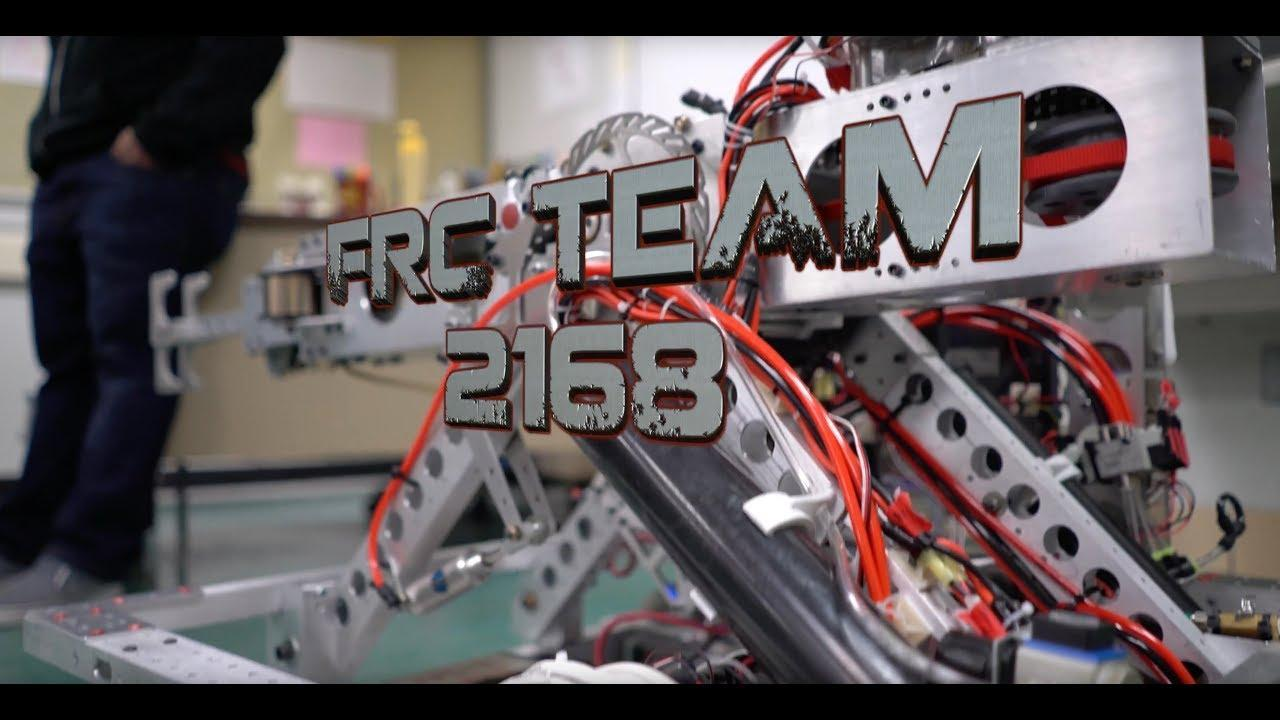robot: (21, 27, 1280, 720)
